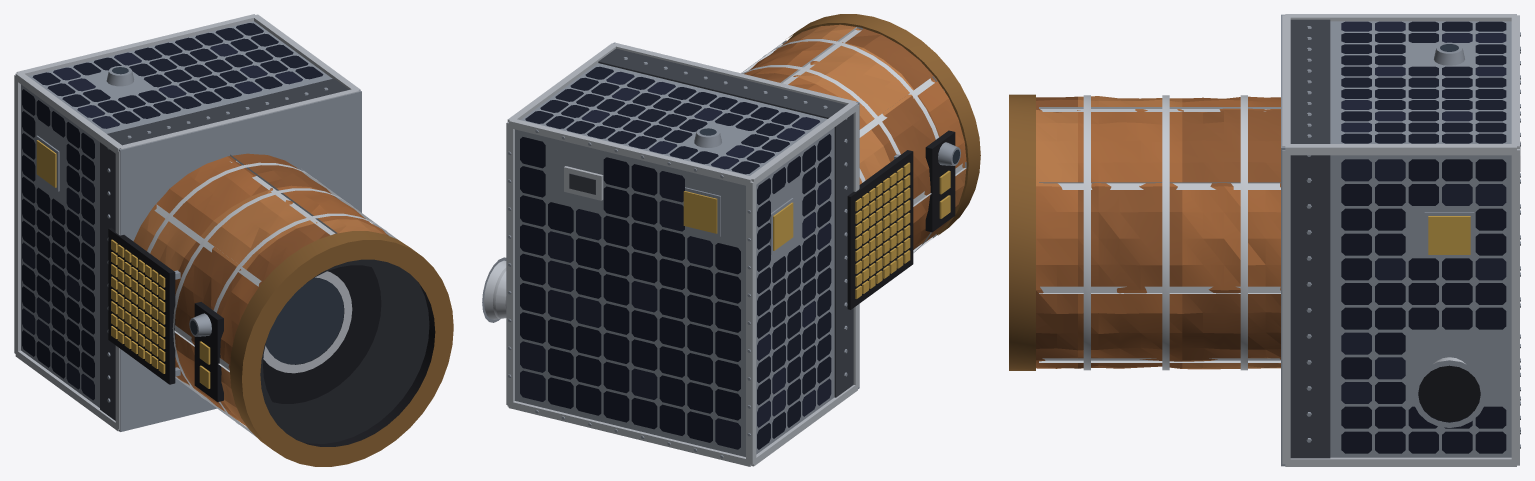
The model's file is satellogic-newsat.glb.
3 views of the same model, side by side, from view 1: azimuth 30°, elevation 25°; view 2: azimuth 150°, elevation 25°; view 3: azimuth 270°, elevation 25° (orthographic). The views are drawn at different scales.
Parts seen in each view (by area): view 1: body, solar-panel, foil; view 2: body, solar-panel, foil; view 3: body, foil, solar-panel.
Boxes of the visible parts, box(x1,y1,x2,y2) form: body: box(14, 14, 453, 466); solar-panel: box(22, 23, 323, 400); foil: box(133, 153, 397, 437); body: box(482, 14, 980, 466); solar-panel: box(520, 66, 831, 449); foil: box(741, 24, 966, 252); body: box(1009, 14, 1520, 466); foil: box(1036, 95, 1280, 370); solar-panel: box(1341, 21, 1506, 453).
Size of the model in its own units: 0.6302 by 0.5975 by 0.8485.
